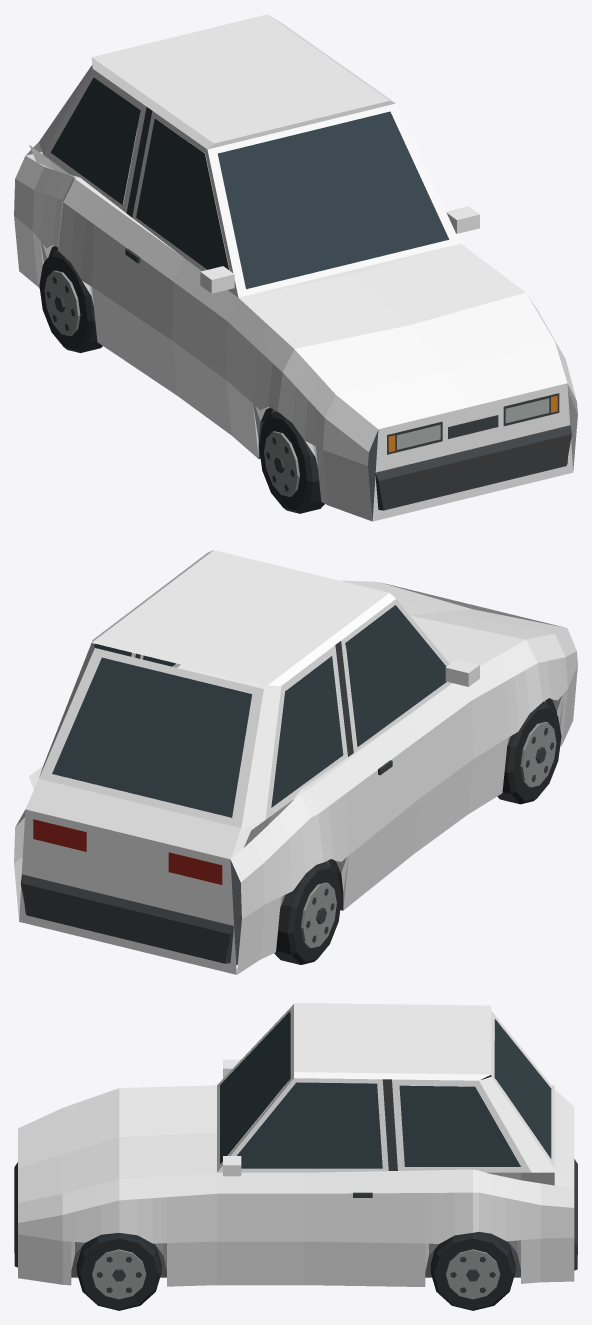
Rendered from saulieu_loriot_s.glb.
3 views of the same model, one above another, from view 1: azimuth 30°, elevation 25°; view 2: azimuth 150°, elevation 25°; view 3: azimuth 270°, elevation 25° (orthographic). The views are drawn at different scales.
Parts seen in each view (by area): view 1: saulieu_loriot_s; view 2: saulieu_loriot_s; view 3: saulieu_loriot_s.
Boxes of the visible parts, <box> form: saulieu_loriot_s: <box>14,14,577,521</box>; saulieu_loriot_s: <box>14,550,577,974</box>; saulieu_loriot_s: <box>14,1003,577,1310</box>.
Size of the model in its own units: 1.63 by 1.62 by 3.68.
Materials: 8 (1 with a texture image).
